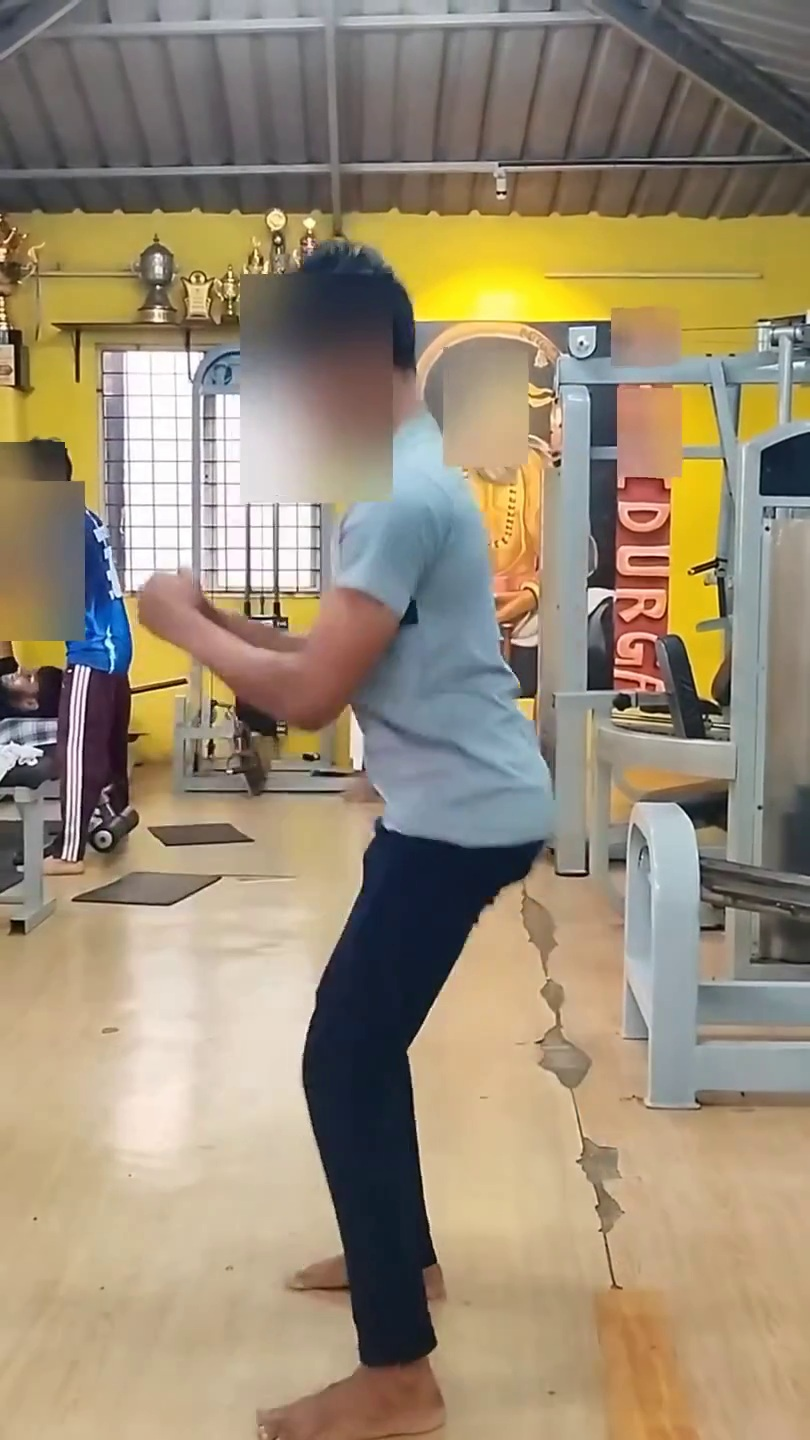squat: (54, 286, 563, 1440)
